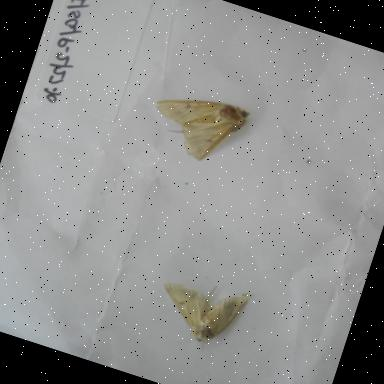abw: (136, 73, 259, 177), (144, 262, 258, 364)
